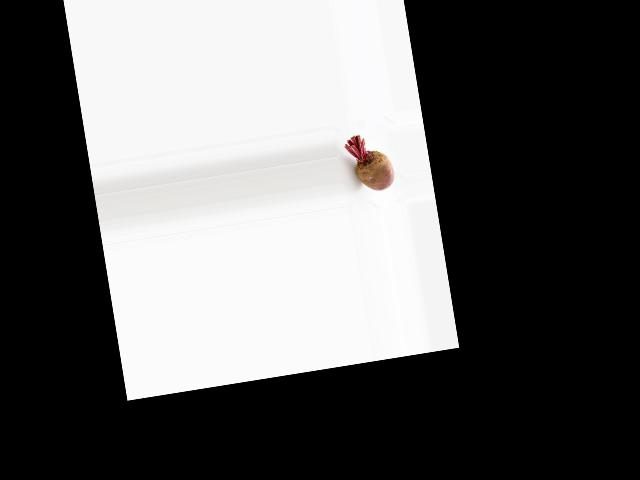beet: (342, 130, 396, 195)
